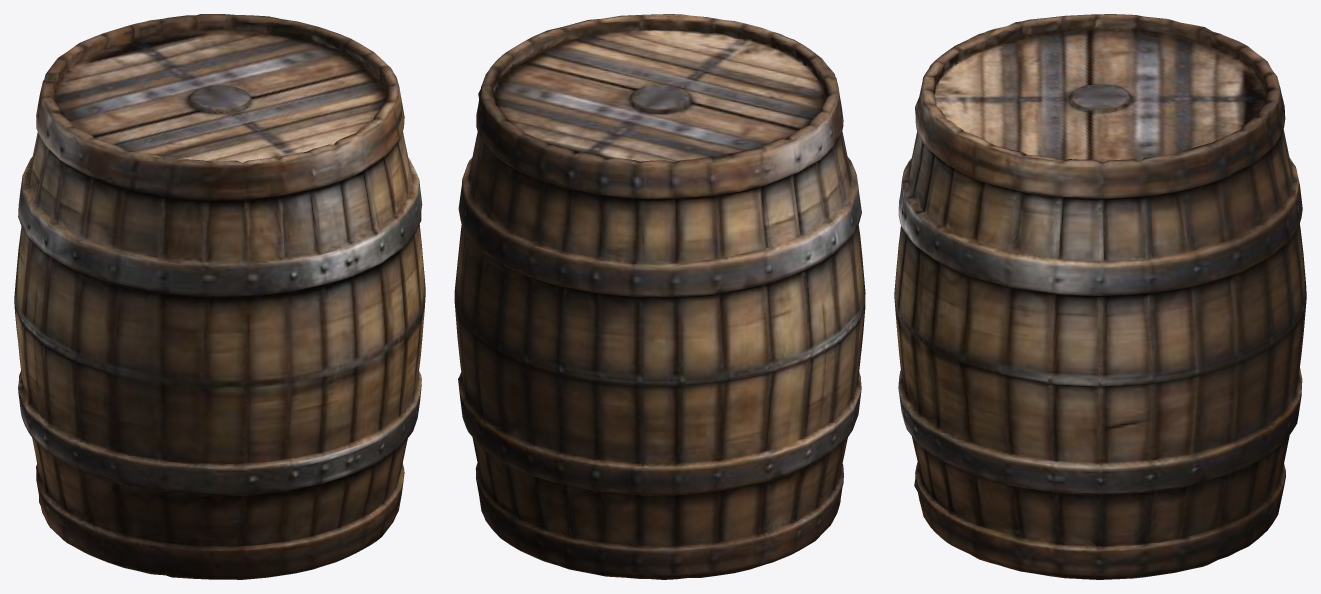
3 views of the same model, side by side, from view 1: azimuth 30°, elevation 25°; view 2: azimuth 150°, elevation 25°; view 3: azimuth 270°, elevation 25° (orthographic).
Bounding box in the file's own units: 1.79 × 2.01 × 1.8.
Materials: 1 (1 with a texture image).
